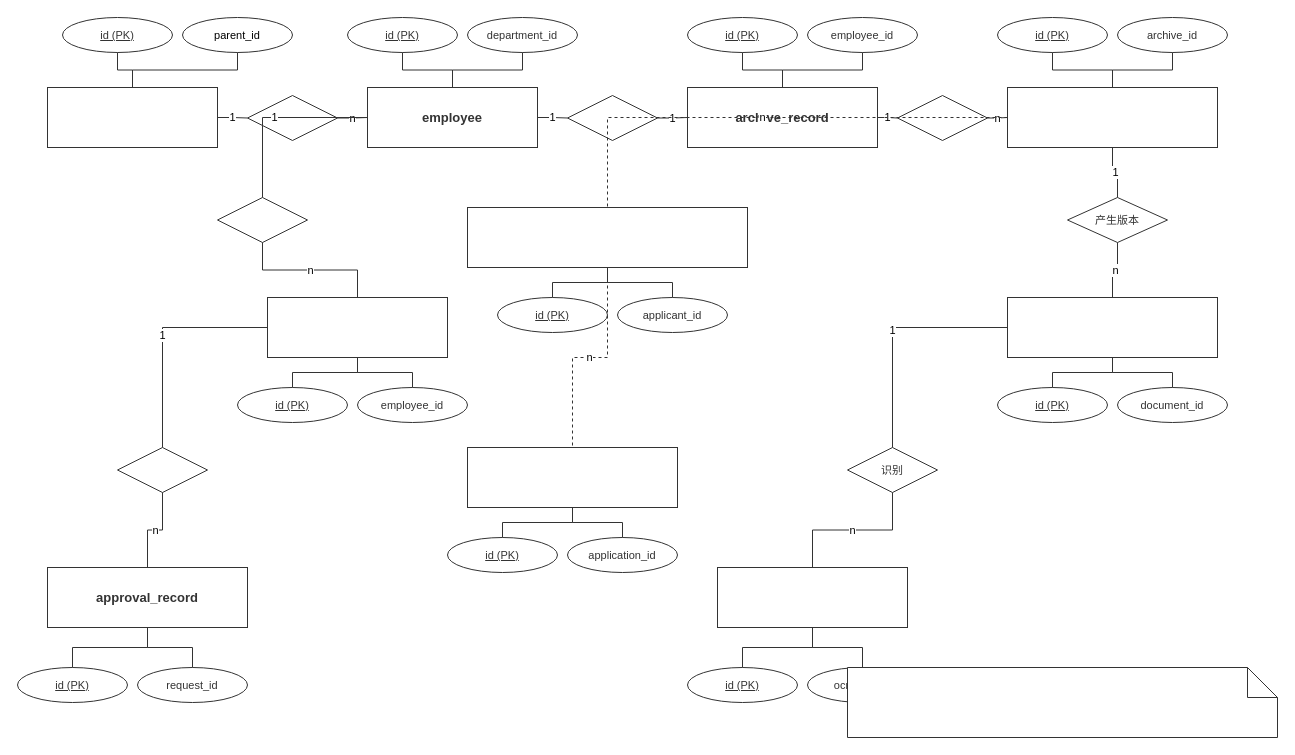
This 1295x755 diagram has some shape labels left out. Each missing label, with the centre of its shape:
archive_access_application: [607,237]
archive_document: [1112,117]
archive_use_record: [572,477]
archive_version: [1112,327]
hr_request: [357,327]
ocr_binding: [812,597]
org_department: [132,117]
包含: [942,117]
发起: [262,219]
实线表示同域概念关系，虚线表示跨服务逻辑关联。完整字段、索引和数据库边界以 2026-09-17 方案设计文档为准；跨库关系不建立物理外键。: [1062,702]
审批: [162,469]
拥有: [612,117]
隶属: [292,117]
